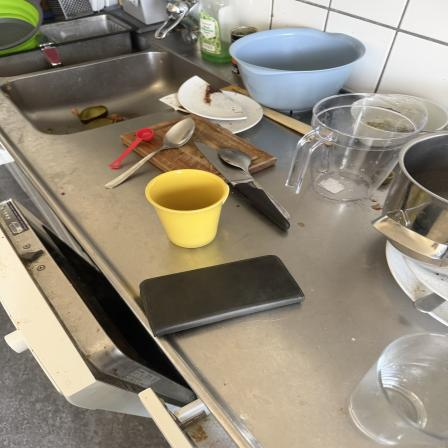phone: (136, 254, 312, 333)
yellow_cup: (146, 168, 232, 249)
